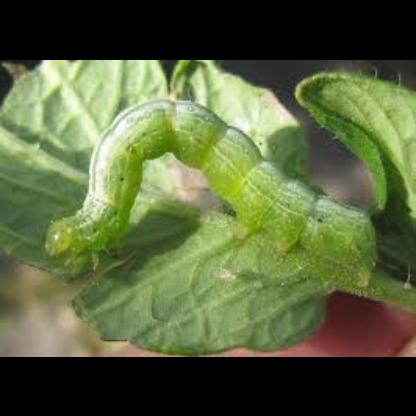oruga: (44, 94, 382, 274)
